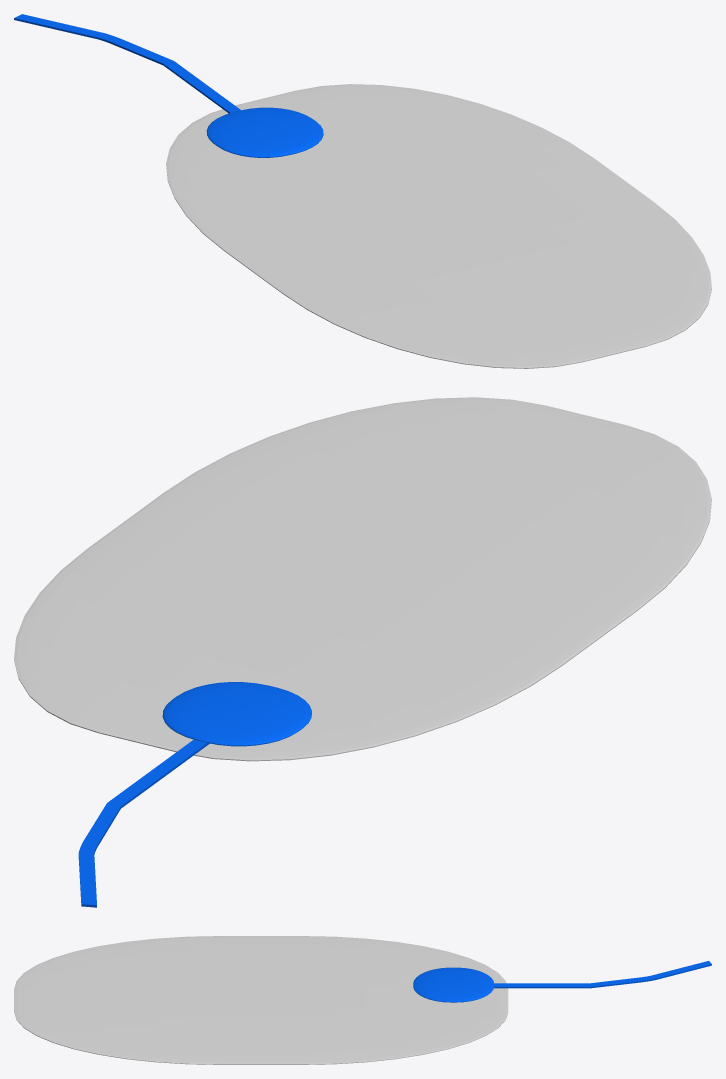
Rendered from Electrodes.fbx.
3 renders of one model, top to bottom at view 1: azimuth 30°, elevation 25°; view 2: azimuth 150°, elevation 25°; view 3: azimuth 270°, elevation 25°, orthographic. The views are drawn at different scales.
Visible parts, largest first — view 1: Cube, Cube.001, Cube.002; view 2: Cube, Cube.001, Cube.002; view 3: Cube, Cube.001, Cube.002.
Boxes of the visible parts, box(x1,y1,x2,y2) form: Cube: box(166, 84, 711, 368); Cube.001: box(206, 107, 323, 157); Cube.002: box(14, 14, 240, 113); Cube: box(14, 397, 711, 761); Cube.001: box(162, 682, 311, 746); Cube.002: box(78, 739, 209, 907); Cube: box(14, 936, 508, 1064); Cube.001: box(413, 967, 494, 1002); Cube.002: box(494, 961, 711, 988).
Bounding box in the file's own units: 155 × 3.75 × 357.
